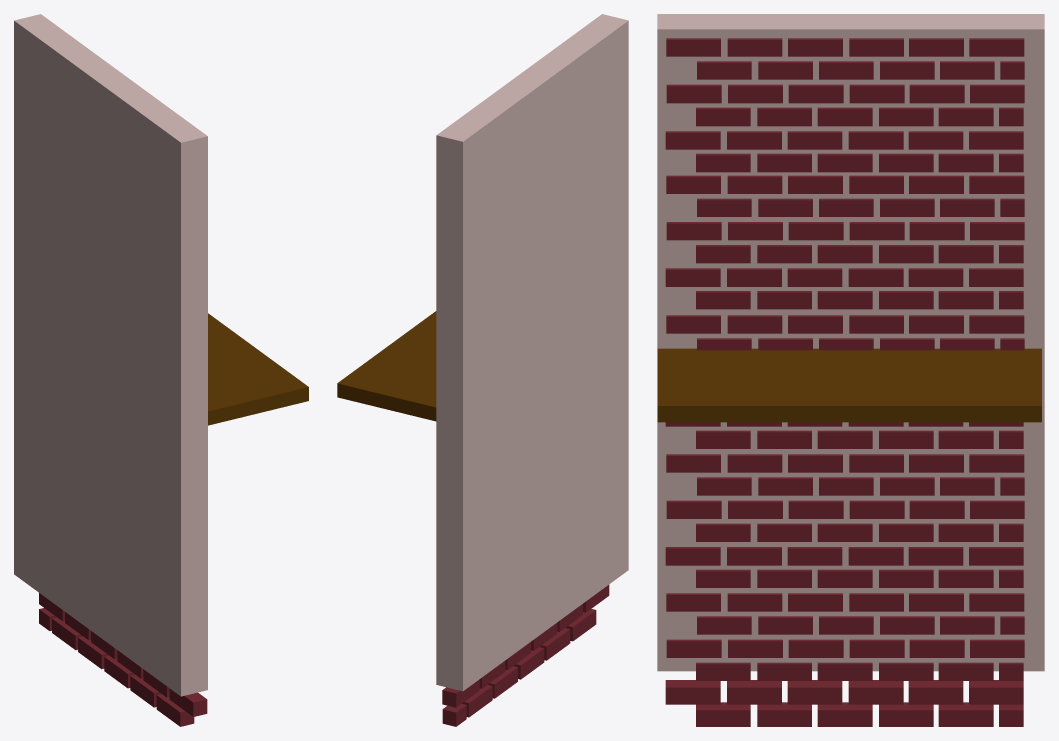
The model's file is wall.fbx.
The picture shows the model from 3 angles, left to right: view 1: azimuth 30°, elevation 25°; view 2: azimuth 150°, elevation 25°; view 3: azimuth 270°, elevation 25°; orthographic projection. The views are drawn at different scales.
Visible parts, largest first — view 1: Cube, Cube.001, Cube.021; view 2: Cube, Cube.001, Cube.021; view 3: Cube.021, Cube, Cube.001.
Boxes of the visible parts, x1,y1,x2,y2 form: Cube: (14, 14, 207, 696); Cube.001: (208, 313, 308, 425); Cube.021: (39, 593, 207, 726); Cube: (436, 14, 628, 691); Cube.001: (337, 311, 436, 421); Cube.021: (442, 584, 609, 726); Cube.021: (665, 38, 1024, 726); Cube: (657, 14, 1044, 671); Cube.001: (657, 348, 1041, 422).
Size of the model in its own units: 239 by 1070 by 540.
